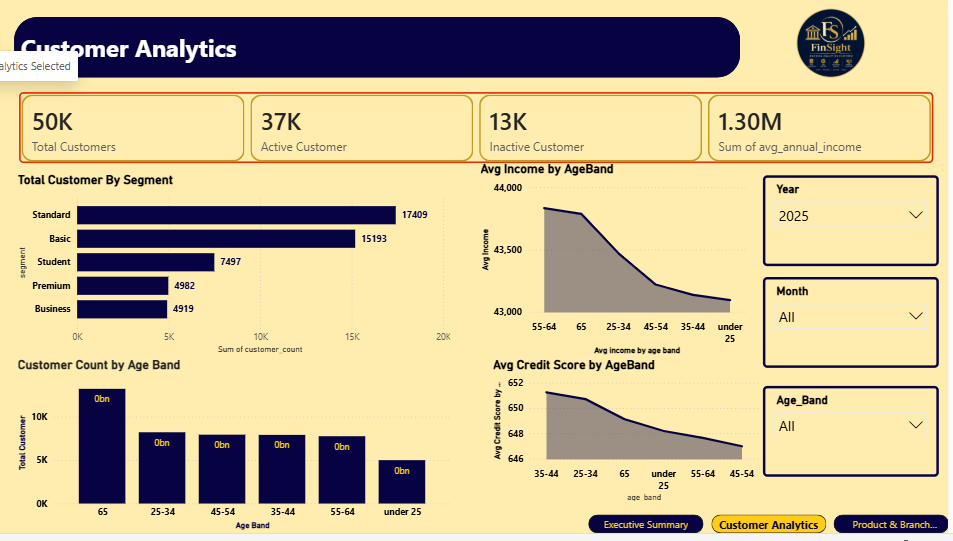

What the dashboard file says about the page in this screenshot:
{"tool":"powerbi","page":{"name":"Customer Analytics","canvas":[1280,720],"ordinal":1},"visuals":[{"type":"shape","box":[23.3,25,976.7,81.7],"z":0},{"type":"cardVisual","fields":{"Data":["Sum(vw_gold_customer_summary.customer_count)","Sum(vw_gold_customer_summary.active_customers)","Sum(vw_gold_customer_summary.inactive_customers)","Sum(vw_gold_customer_summary.avg_annual_income)"]},"box":[10,106.7,1270,136.7],"z":1000},{"type":"clusteredColumnChart","title":"Customer Count by Age Band","fields":{"Category":["vw_gold_customer_summary.age_band"],"Y":["Sum(vw_gold_customer_summary.customer_count)"]},"box":[23.3,483.3,591.7,236.7],"z":2000},{"type":"barChart","title":"Total Customer By Segment","fields":{"Y":["Sum(vw_gold_customer_summary.customer_count)"],"Category":["vw_gold_customer_summary.segment"]},"box":[23.3,235,591.7,248.3],"z":3000},{"type":"slicer","fields":{"Values":["vw_gold_transaction_summary.transaction_year","vw_gold_transaction_summary.transaction_month"]},"box":[1030,238.3,236.7,121.7],"z":4000},{"type":"slicer","fields":{"Values":["vw_gold_transaction_summary.transaction_month"]},"box":[1030,375,236.7,121.7],"z":5000},{"type":"slicer","fields":{"Values":["vw_gold_customer_summary.age_band"]},"box":[1030,521.7,236.7,121.7],"z":6000},{"type":"image","box":[1013.3,15,216.7,91.7],"z":7000},{"type":"areaChart","title":"Avg Income by AgeBand","fields":{"Category":["vw_gold_customer_summary.age_band"],"Y":["Avg(vw_gold_customer_summary.avg_annual_income)"]},"box":[645,220,368.3,263.3],"z":8000},{"type":"areaChart","title":"Avg Credit Score by AgeBand","fields":{"Y":["Avg(vw_gold_customer_summary.avg_credit_score)"],"Category":["vw_gold_customer_summary.age_band"]},"box":[661.7,483.3,368.3,198.3],"z":9000},{"type":"pageNavigator","box":[795,695,485,25],"z":10000}]}

Visuals, with their boxes in screenshot pixels (x1, y1, x2, y2), scaled from the page's 1280x720 canvas onto the 953x541 screenshot:
shape: [x1=17, y1=19, x2=745, y2=80]
cardVisual - Sum(vw_gold_customer_summary.customer_count) x Sum(vw_gold_customer_summary.active_customers): [x1=7, y1=80, x2=952, y2=183]
"Customer Count by Age Band" clusteredColumnChart: [x1=17, y1=363, x2=458, y2=540]
"Total Customer By Segment" barChart: [x1=17, y1=177, x2=458, y2=363]
slicer - vw_gold_transaction_summary.transaction_year x vw_gold_transaction_summary.transaction_month: [x1=767, y1=179, x2=943, y2=270]
slicer - vw_gold_transaction_summary.transaction_month: [x1=767, y1=282, x2=943, y2=373]
slicer - vw_gold_customer_summary.age_band: [x1=767, y1=392, x2=943, y2=483]
image: [x1=754, y1=11, x2=916, y2=80]
"Avg Income by AgeBand" areaChart: [x1=480, y1=165, x2=754, y2=363]
"Avg Credit Score by AgeBand" areaChart: [x1=493, y1=363, x2=767, y2=512]
pageNavigator: [x1=592, y1=522, x2=952, y2=540]
